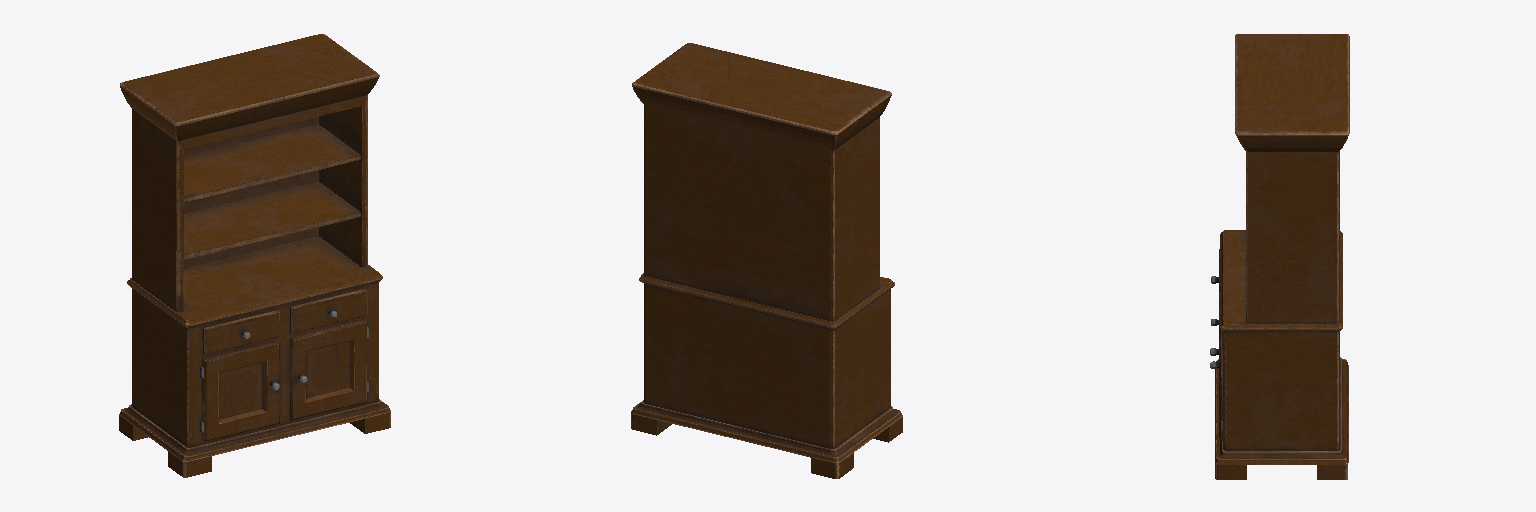
The picture shows the model from 3 angles: view 1: azimuth 30°, elevation 25°; view 2: azimuth 150°, elevation 25°; view 3: azimuth 270°, elevation 25°; orthographic projection.
Parts seen in each view (by area): view 1: obj1, obj3, obj5, obj4, obj2; view 2: obj1; view 3: obj1.
Boxes of the visible parts, box(x1,y1,x2,y2) form: obj1: box(119, 34, 390, 477); obj3: box(202, 341, 279, 441); obj5: box(290, 319, 366, 420); obj4: box(290, 288, 367, 333); obj2: box(203, 309, 279, 354); obj1: box(631, 43, 902, 478); obj1: box(1215, 34, 1349, 479).
Size of the model in its own units: 323 by 514 by 187.
Materials: 1 (1 with a texture image).